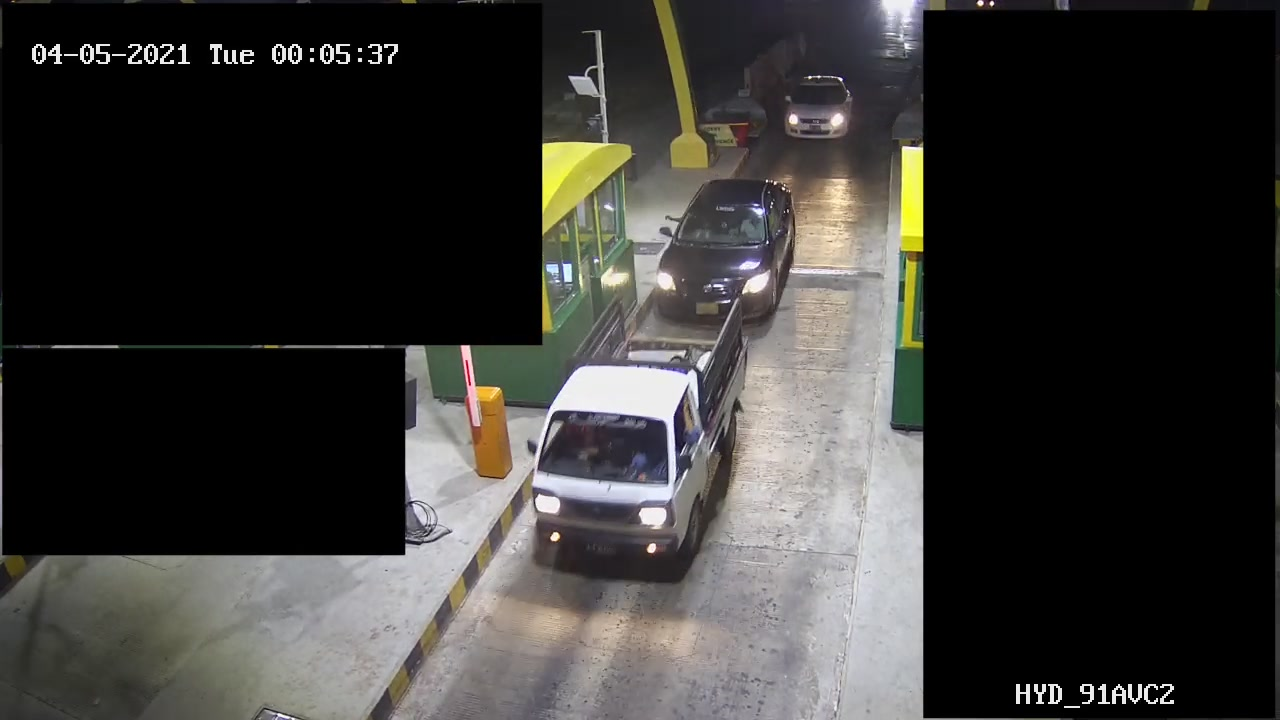F1: (530, 296, 765, 574), (648, 177, 802, 327)
